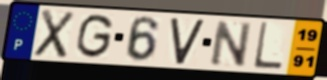6: (125, 15, 162, 64)
G: (74, 13, 116, 60)
L: (251, 21, 285, 72)
N: (209, 19, 253, 68)
V: (168, 18, 207, 66)
X: (31, 8, 77, 60)
